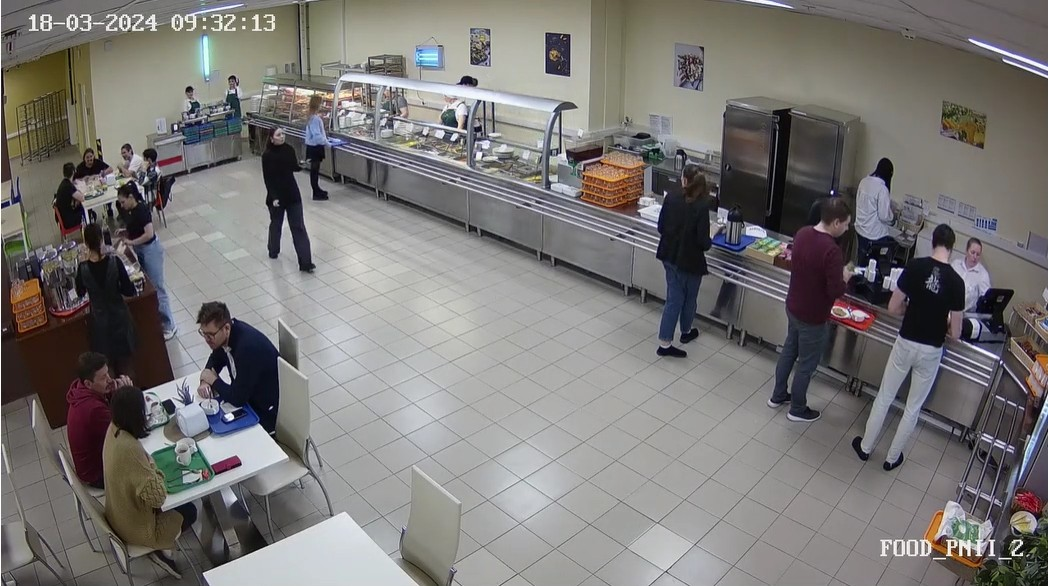Na_Kasse: (754, 214, 1003, 463), (681, 180, 889, 421)
Ne_v_Ocheredi: (53, 215, 198, 391), (101, 181, 243, 338)
Personal: (858, 153, 898, 261), (965, 227, 993, 307), (169, 75, 205, 133), (437, 83, 472, 136), (222, 66, 244, 128)
Vybiraet: (643, 155, 725, 364), (253, 118, 322, 283), (301, 83, 351, 210)
Za_Stolom: (91, 387, 185, 553), (190, 297, 293, 431), (55, 353, 120, 508), (48, 155, 91, 228), (71, 141, 117, 182), (136, 145, 164, 204), (110, 136, 139, 178)
